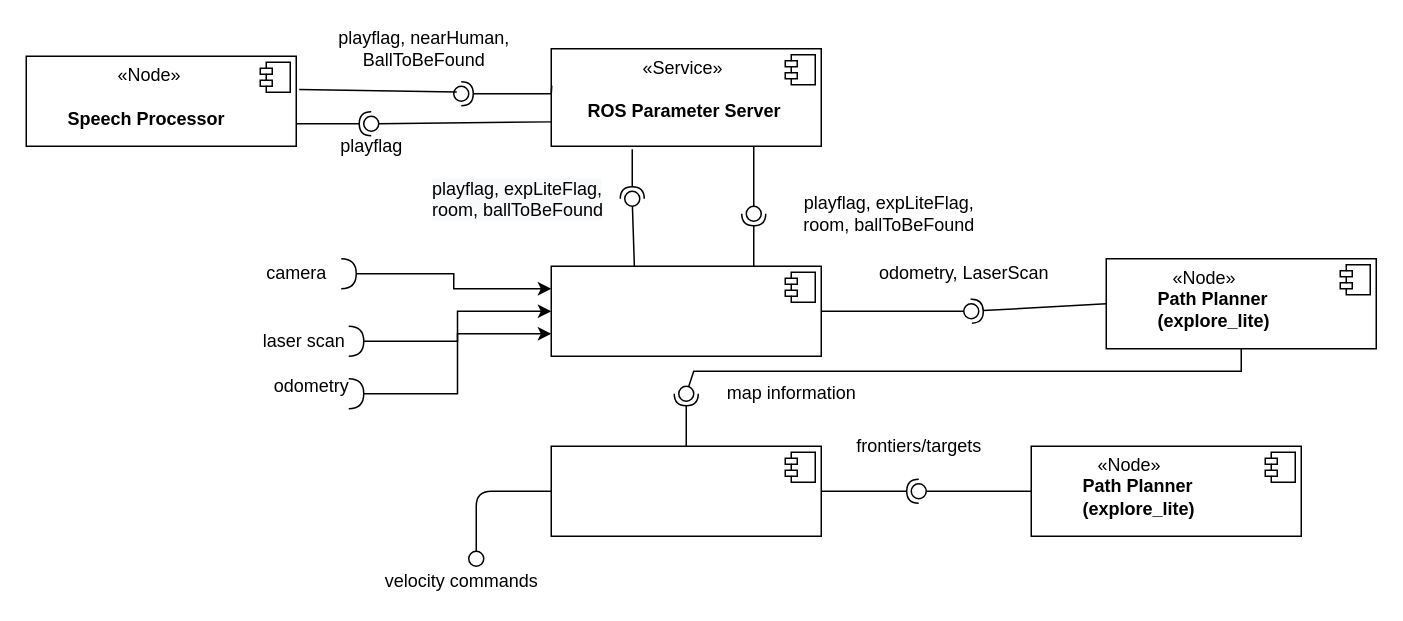
Image size: 1403x621. Some labels were removed from this diagram. The centre of each missing label's shape, as x and y in pixels:
«Node» Command Manager: pixel 685 310
«Node» Robot Controller (move_base): pixel 685 490
